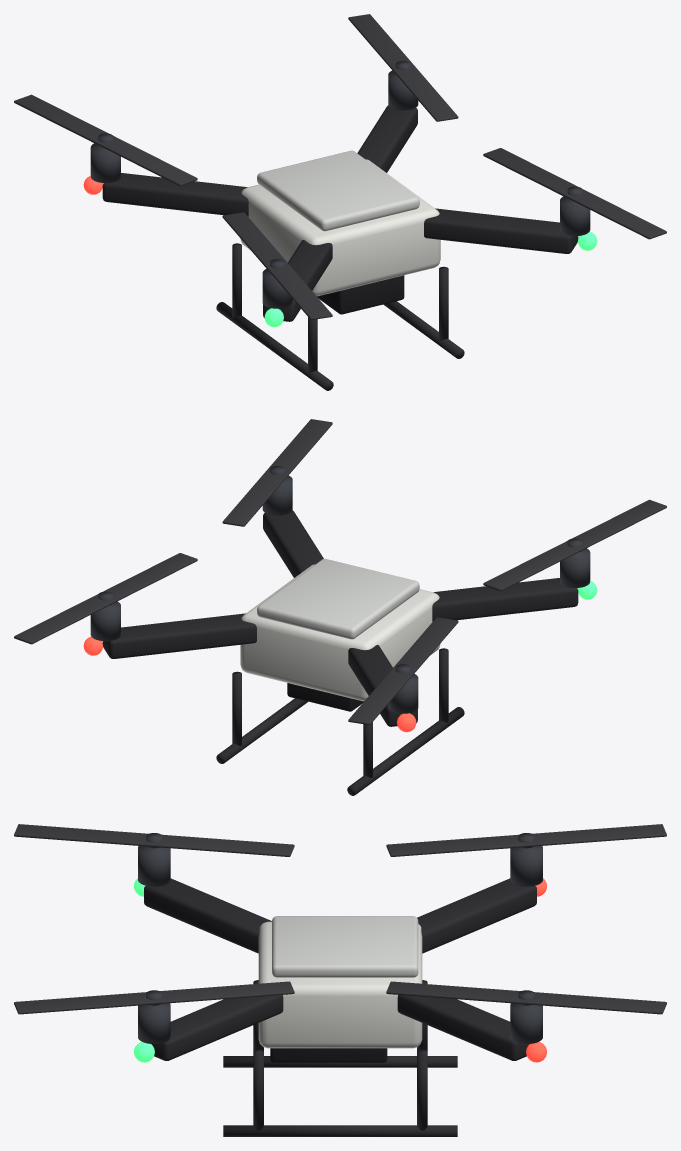
The model's file is quad_A.glb.
The picture shows the model from 3 angles, top to bottom: view 1: azimuth 30°, elevation 25°; view 2: azimuth 150°, elevation 25°; view 3: azimuth 270°, elevation 25°; orthographic projection. The views are drawn at different scales.
Parts seen in each view (by area): view 1: propA, bodyA, topA, armFA, armRA, skidA, motor, battA, ledR; view 2: propA, bodyA, topA, armRA, armFA, skidA, motor, battA, ledF; view 3: propA, bodyA, topA, armRA, armFA, skidA, motor, battA, ledF, ledR.
Boxes of the visible parts, <box> form: propA: <box>14,14,666,319</box>; bodyA: <box>240,159,440,296</box>; topA: <box>257,150,419,231</box>; armFA: <box>102,105,417,216</box>; armRA: <box>263,208,578,321</box>; skidA: <box>216,243,464,390</box>; motor: <box>90,61,590,308</box>; battA: <box>317,275,404,314</box>; ledR: <box>264,231,597,327</box>; propA: <box>14,419,666,724</box>; bodyA: <box>240,564,440,701</box>; topA: <box>257,559,419,639</box>; armRA: <box>263,510,578,621</box>; armFA: <box>102,613,417,726</box>; skidA: <box>216,648,464,795</box>; motor: <box>90,466,590,713</box>; battA: <box>287,683,363,711</box>; ledF: <box>83,636,416,732</box>; propA: <box>14,824,666,1014</box>; bodyA: <box>258,921,422,1048</box>; topA: <box>272,916,418,977</box>; armRA: <box>144,878,283,1060</box>; armFA: <box>397,878,536,1060</box>; skidA: <box>223,980,457,1136</box>; motor: <box>138,833,542,1043</box>; battA: <box>270,1048,387,1062</box>; ledF: <box>526,878,546,1062</box>; ledR: <box>134,878,154,1062</box>.
Bounding box in the file's own units: 0.3812 × 0.176 × 0.558.
